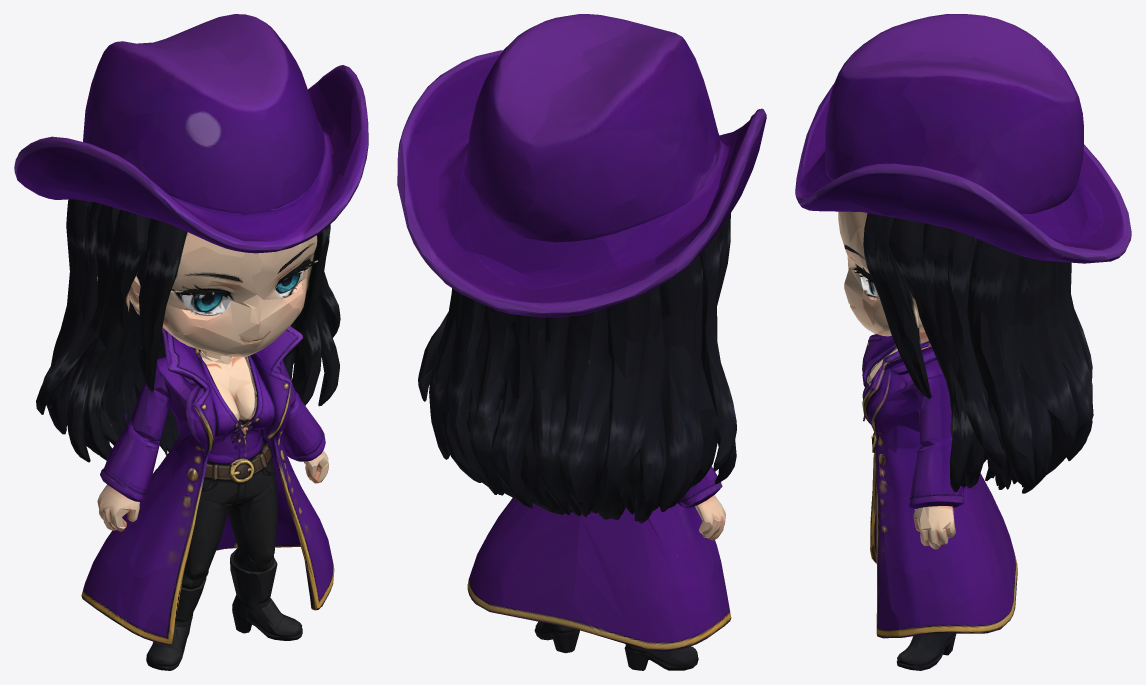
The model's file is Nico Robyn.glb.
3 views of the same model, side by side, from view 1: azimuth 30°, elevation 25°; view 2: azimuth 150°, elevation 25°; view 3: azimuth 270°, elevation 25° (orthographic). The views are drawn at different scales.
Parts seen in each view (by area): view 1: Mesh_0; view 2: Mesh_0; view 3: Mesh_0.
Boxes of the visible parts, left/top/right/bottom form: Mesh_0: left=14, top=14, right=368, bottom=670; Mesh_0: left=397, top=14, right=766, bottom=670; Mesh_0: left=795, top=14, right=1131, bottom=670.
Bounding box in the file's own units: 1.03 × 1.9 × 0.9772.
Materials: 1 (1 with a texture image).
